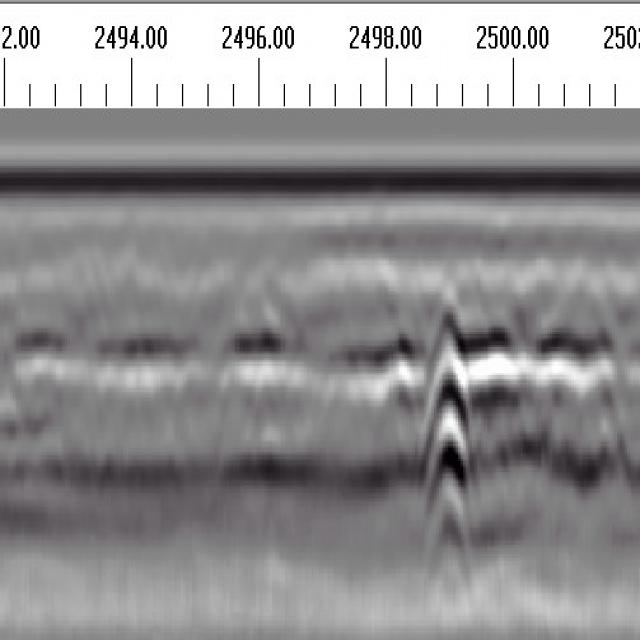loose: (385, 274, 631, 555)
